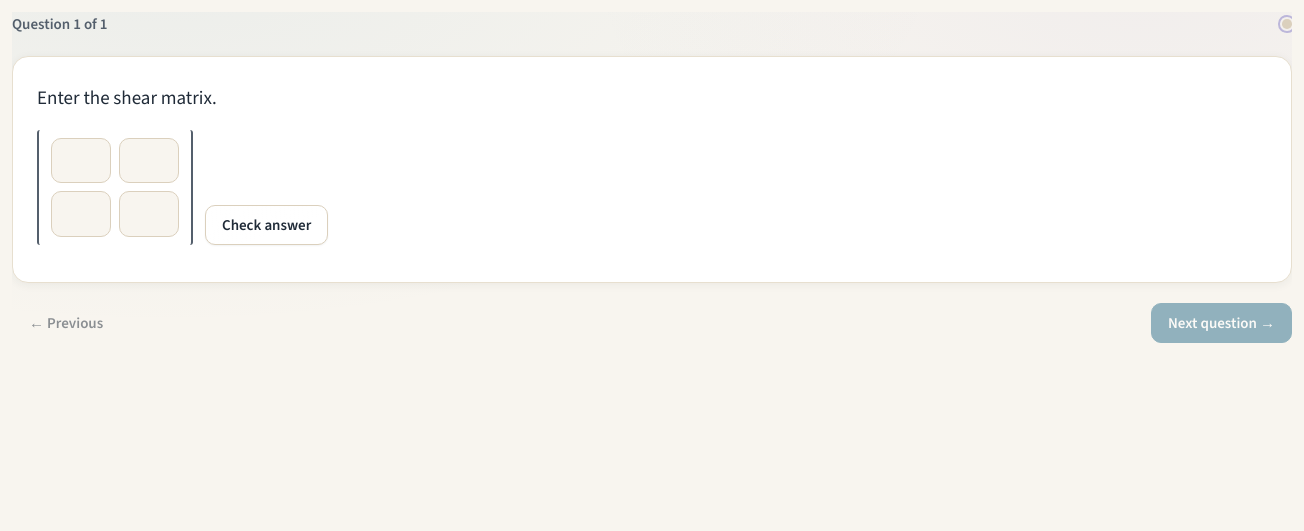
ExercisePanel renders the matrix-entry capability › grades the typed matrix entry-wise
This screenshot has width=1304, height=531.
In the number field named "Row 1, column 1": (81, 161) [51,138,111,184], type "1"
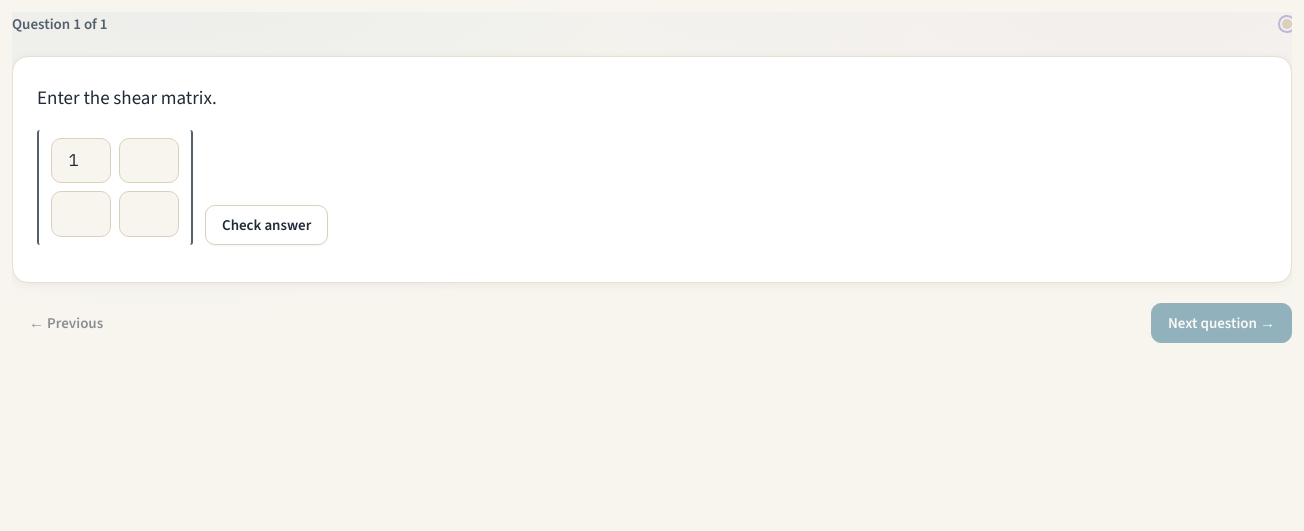
In the number field named "Row 1, column 2": (149, 161) [119,138,179,184], type "1"
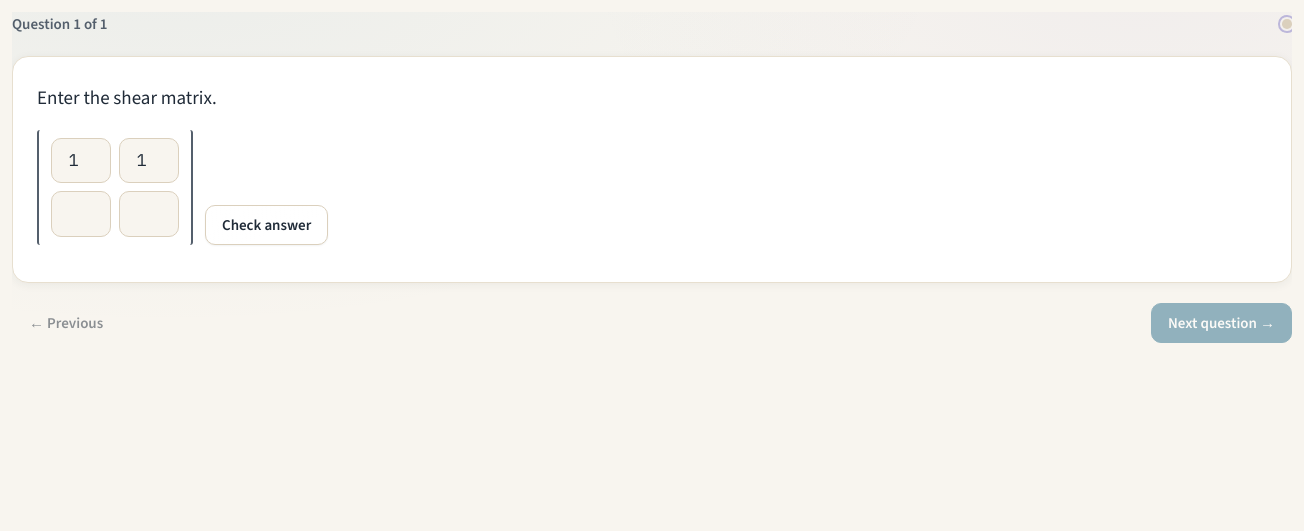
In the number field named "Row 2, column 1": (81, 214) [51,191,111,237], type "0"
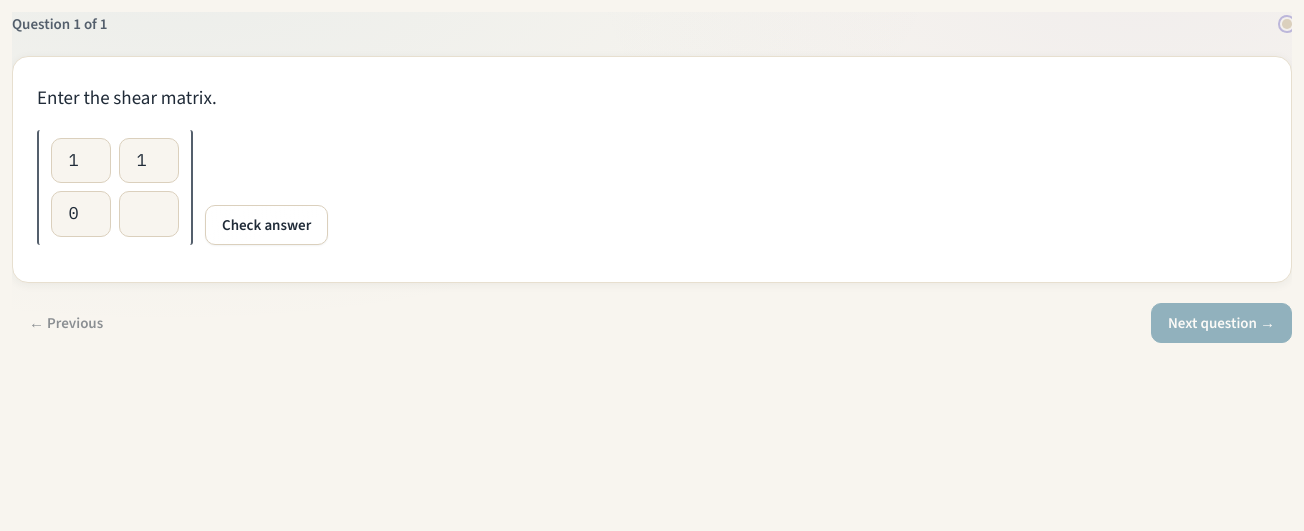
In the number field named "Row 2, column 2": (149, 214) [119,191,179,237], type "1"
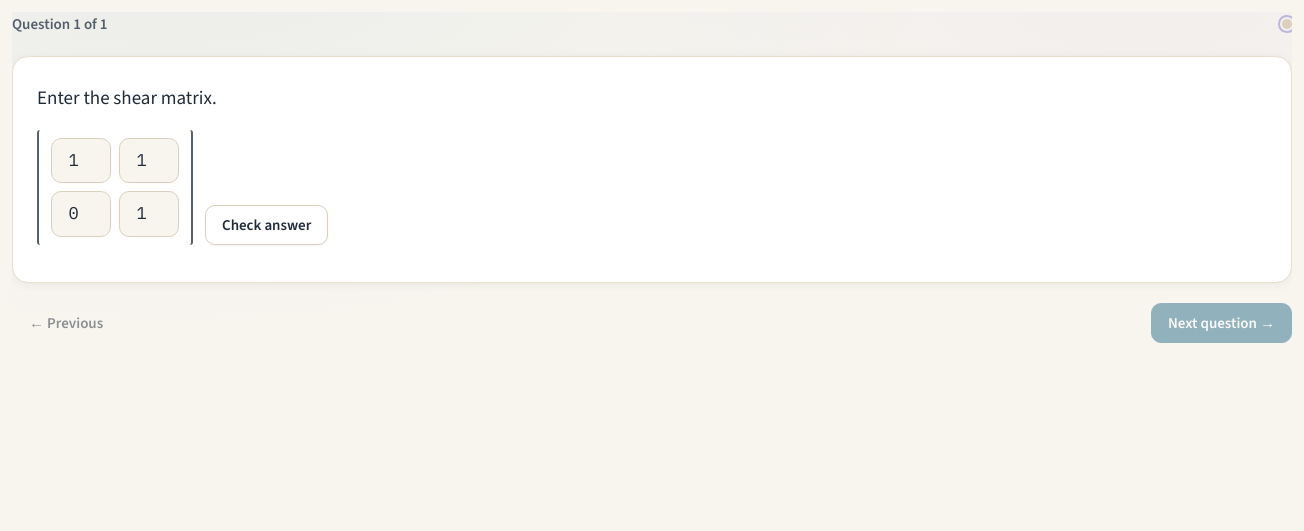
Click the button "Check answer": (267, 225) [205,205,328,245]
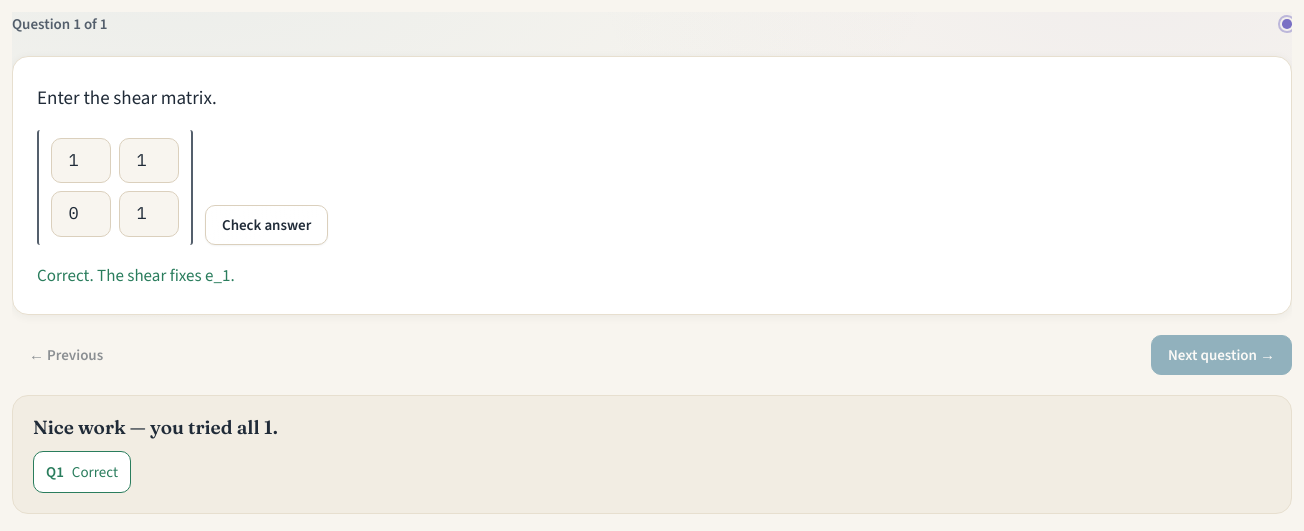
Expected: the text "Correct." is shown, [37,264,235,287]
